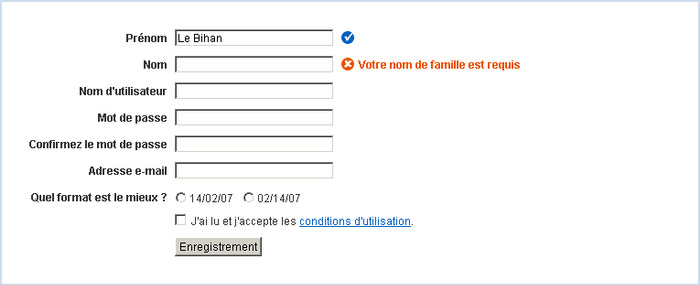_form_: (1, 1, 416, 285)
button: (173, 236, 265, 258)
checkbox: (174, 213, 189, 229)
checkbox_with_label: (171, 211, 413, 231)
field: (174, 28, 334, 48), (172, 82, 335, 101), (172, 135, 335, 154), (173, 54, 335, 73), (173, 108, 334, 127), (172, 161, 335, 179)
field_with_label: (28, 134, 336, 155), (80, 80, 338, 103), (97, 106, 337, 129), (88, 159, 337, 181), (127, 25, 336, 49), (143, 52, 336, 75)
radio: (175, 191, 187, 205), (242, 191, 254, 205)
radio_with_label: (172, 189, 234, 206), (239, 190, 302, 206)
